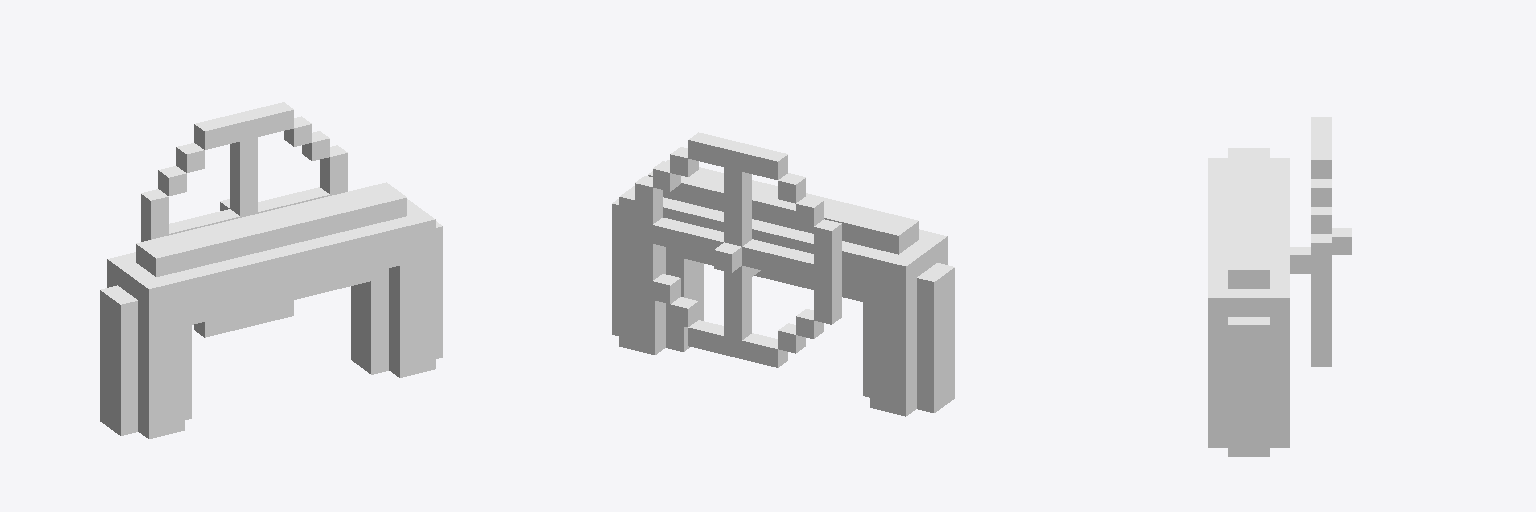
File: water_tank_valve.obj
3 views of the same model, side by side, from view 1: azimuth 30°, elevation 25°; view 2: azimuth 150°, elevation 25°; view 3: azimuth 270°, elevation 25° (orthographic).
Visible parts, largest first — view 1: object 1; view 2: object 1; view 3: object 1.
Part boxes in pixels (x1,y1,x2,y2): object 1: (100, 102, 442, 438); object 1: (612, 132, 954, 416); object 1: (1208, 117, 1351, 456).
Bounding box in the file's own units: 1.8 × 1.3 × 0.7.